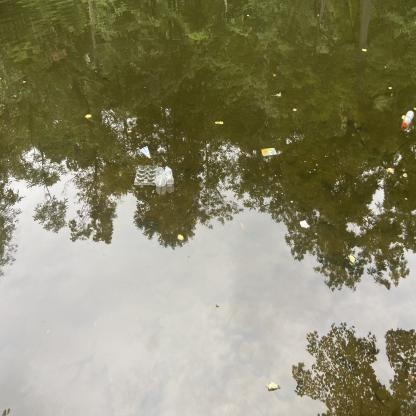trash: (130, 161, 158, 188), (399, 106, 416, 131), (154, 165, 167, 189), (164, 166, 175, 190), (259, 146, 279, 158), (138, 144, 151, 160), (298, 219, 310, 230)
